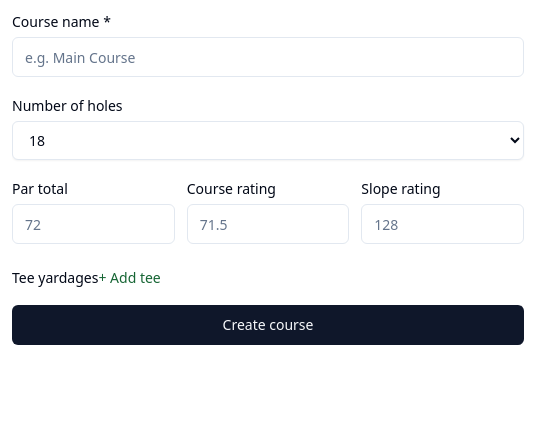
Test: CourseForm — tee row interactions › can remove a tee row
The image size is (541, 434).
Click the button "+ Add tee". click: click(130, 278)
box: [98, 268, 161, 288]
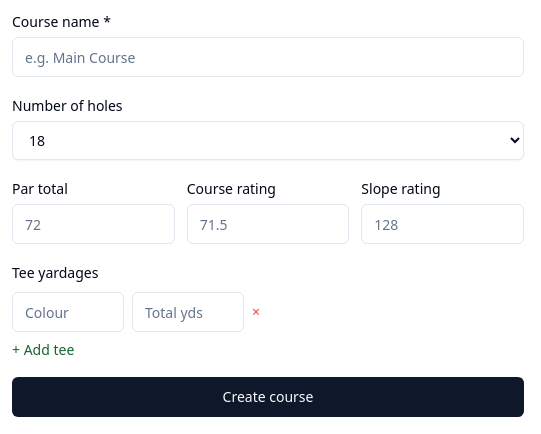
Expected: the number of fields with placeholder "Colour" is 1, [12, 292, 124, 332]
Click the button named "remove tee row 1". click: click(256, 312)
box: [252, 302, 260, 322]
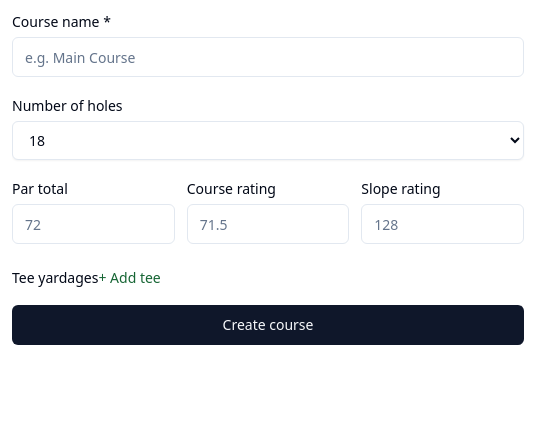
Expected: no fields with placeholder "colour" are shown
